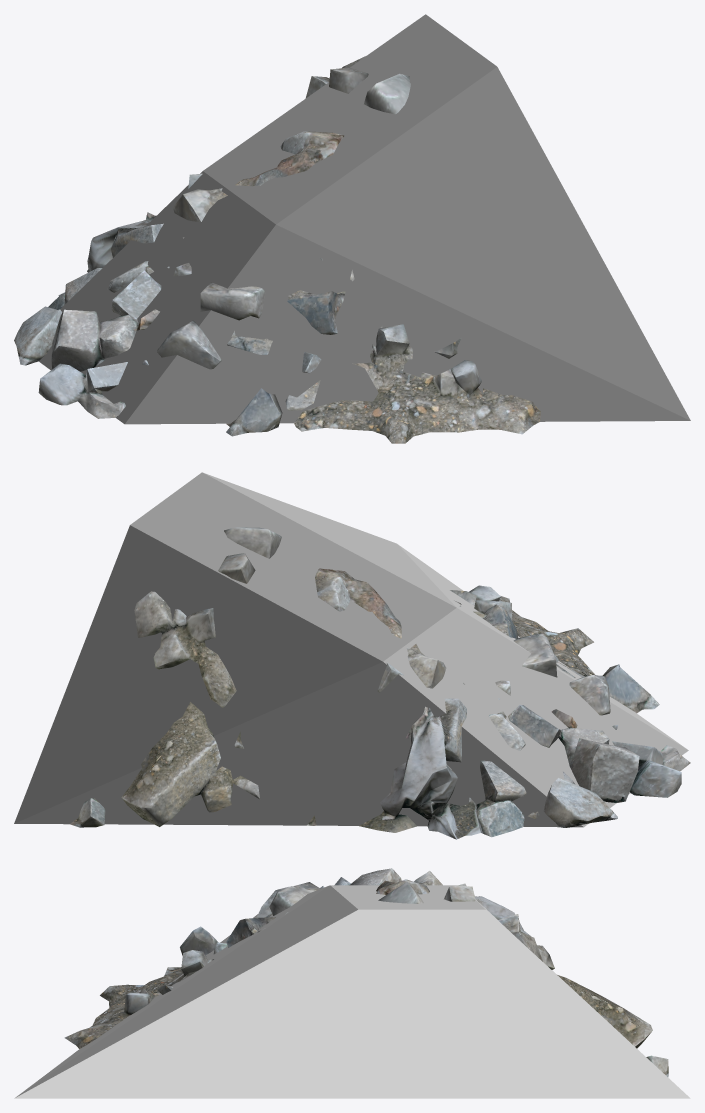
Rendered from SM_Rubble_02_02.fbx.
3 views of the same model, one above another, from view 1: azimuth 30°, elevation 25°; view 2: azimuth 150°, elevation 25°; view 3: azimuth 270°, elevation 25° (orthographic). The views are drawn at different scales.
Parts seen in each view (by area): view 1: sm_Rubble_02_02_ConvexHulls, sm_Rubble_02_02_LOD0; view 2: sm_Rubble_02_02_ConvexHulls, sm_Rubble_02_02_LOD0; view 3: sm_Rubble_02_02_ConvexHulls, sm_Rubble_02_02_LOD0.
Part boxes in pixels (x1,y1,x2,y2): sm_Rubble_02_02_ConvexHulls: (38, 14, 690, 424); sm_Rubble_02_02_LOD0: (14, 56, 540, 443); sm_Rubble_02_02_ConvexHulls: (14, 472, 688, 827); sm_Rubble_02_02_LOD0: (70, 527, 690, 839); sm_Rubble_02_02_ConvexHulls: (14, 885, 690, 1098); sm_Rubble_02_02_LOD0: (64, 868, 668, 1077).
Bounding box in the file's own units: 140 × 60.84 × 197.
